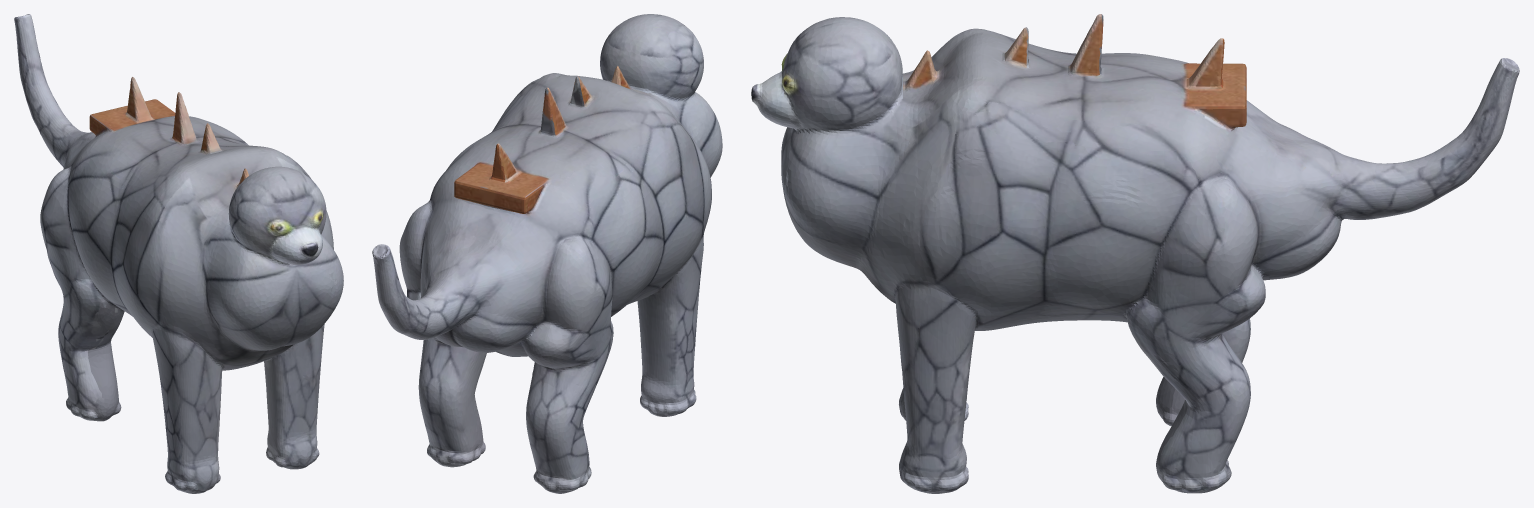
Rendered from creature-048.glb.
3 renders of one model, left to right at view 1: azimuth 30°, elevation 25°; view 2: azimuth 150°, elevation 25°; view 3: azimuth 270°, elevation 25°, orthographic. The views are drawn at different scales.
Parts seen in each view (by area): view 1: tmprbd287mr.ply; view 2: tmprbd287mr.ply; view 3: tmprbd287mr.ply.
Boxes of the visible parts, left/top/right/bottom form: tmprbd287mr.ply: left=14, top=14, right=343, bottom=493; tmprbd287mr.ply: left=372, top=14, right=722, bottom=493; tmprbd287mr.ply: left=751, top=14, right=1519, bottom=493.
Size of the model in its own units: 0.7527 by 1.27 by 1.99.
1 material, 1 textured.
